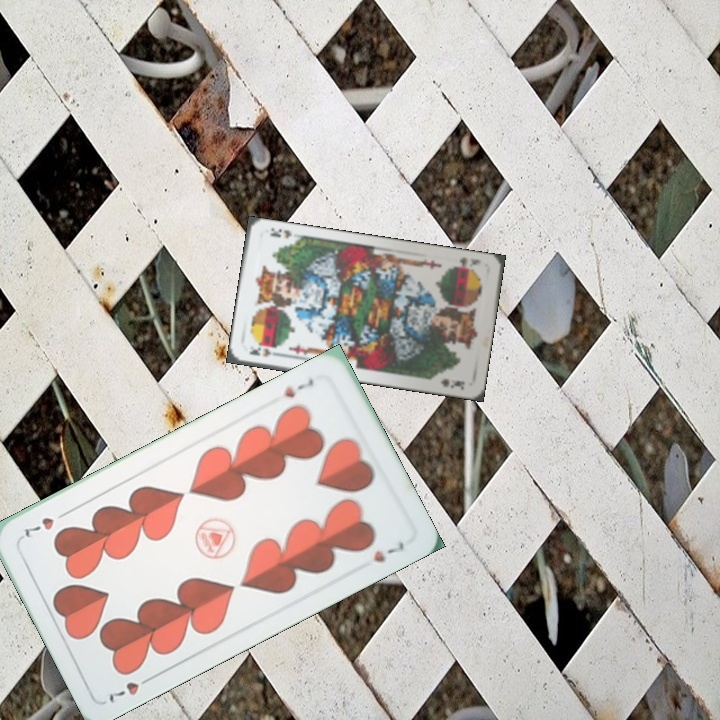H7: (105, 671, 157, 706), (281, 374, 316, 401)
SK: (449, 253, 484, 274), (245, 343, 283, 359)
